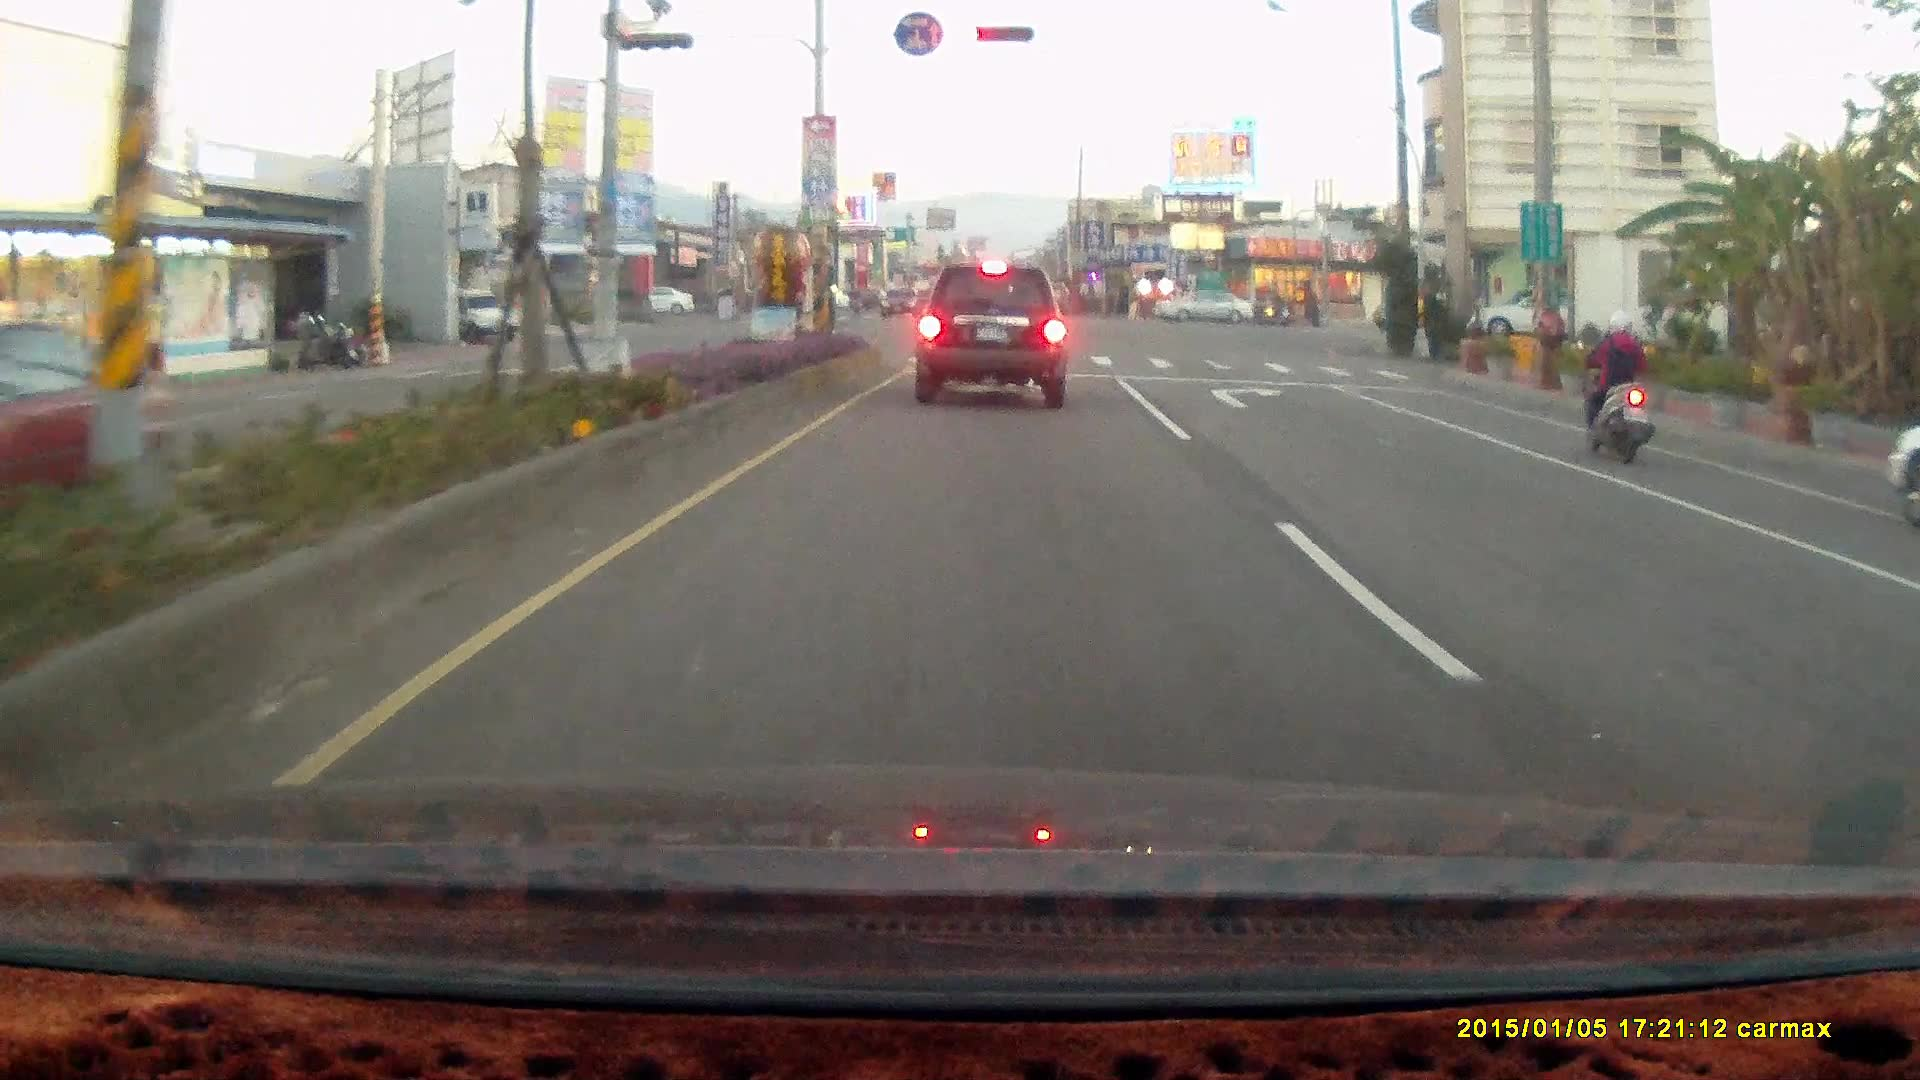rider: (1574, 305, 1656, 463), (1261, 287, 1292, 324)
vehicle: (913, 263, 1066, 409), (1896, 493, 1920, 836), (1472, 286, 1596, 347), (1476, 285, 1592, 347), (1883, 528, 1920, 690), (446, 287, 522, 343), (1149, 291, 1257, 330), (1882, 434, 1920, 534), (1149, 287, 1255, 323)
